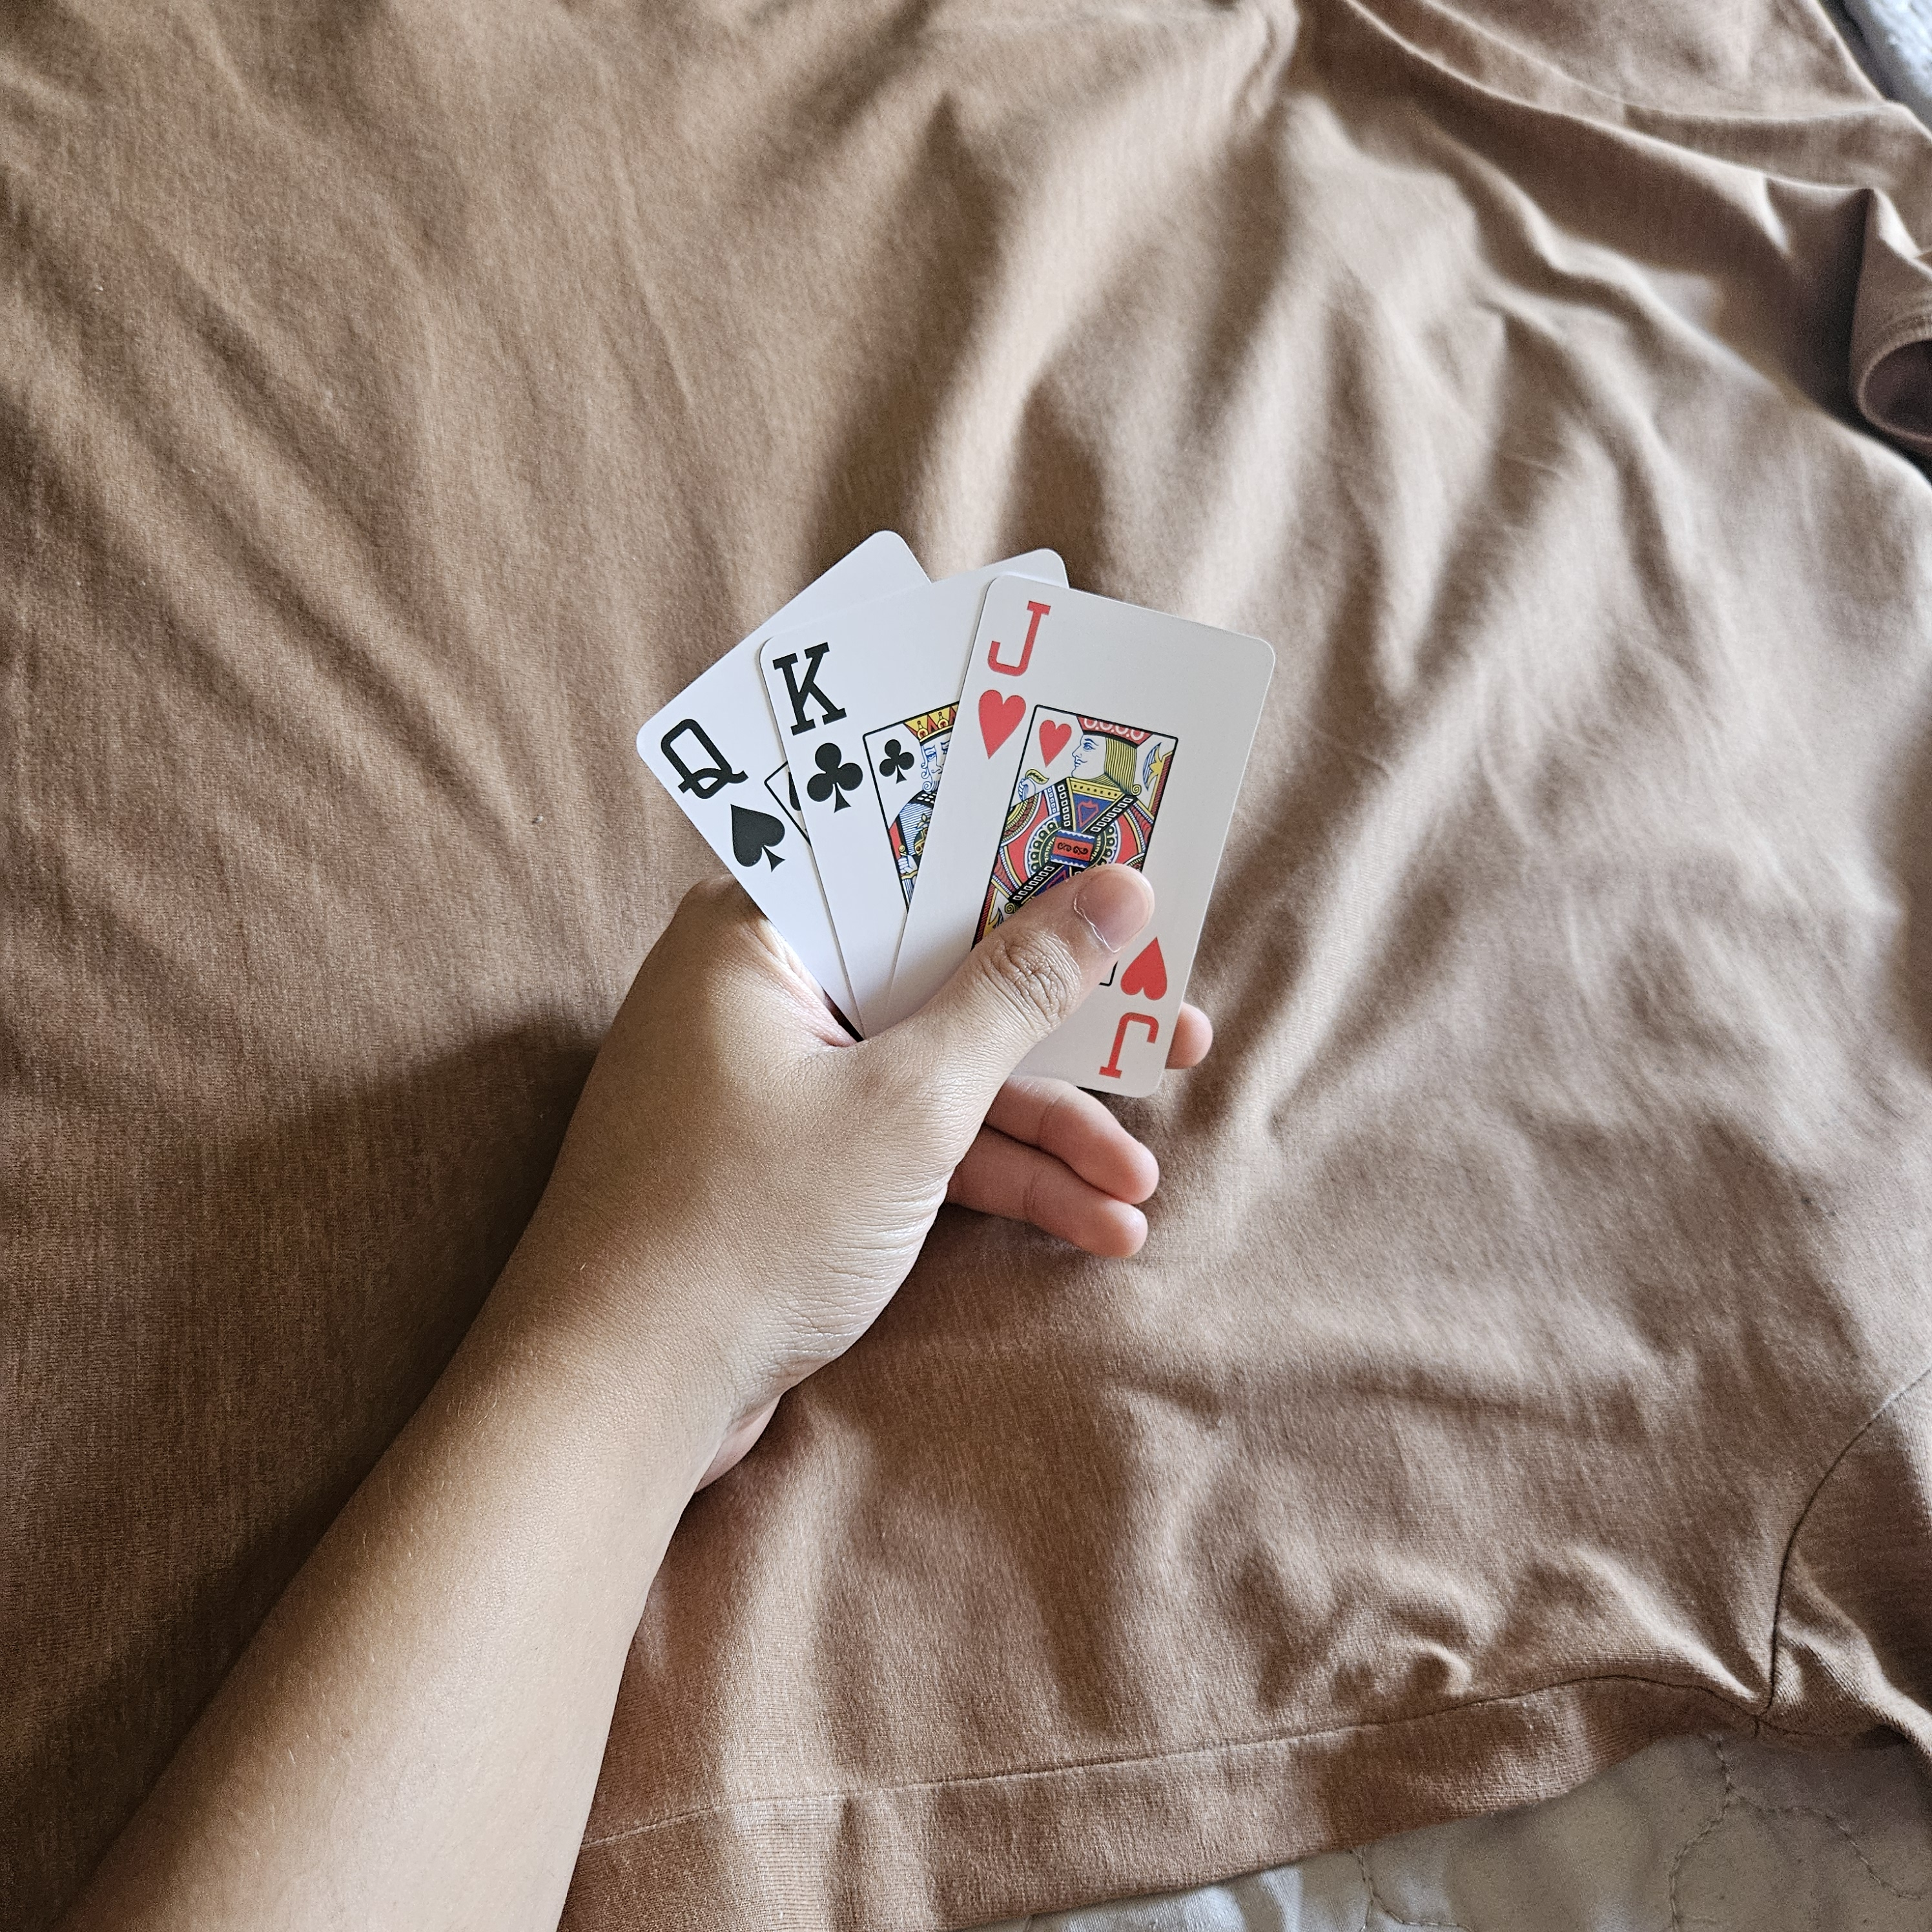JC: (964, 589, 1056, 768), (1090, 932, 1180, 1099)
KP: (768, 635, 869, 830)
QE: (649, 704, 796, 890)
